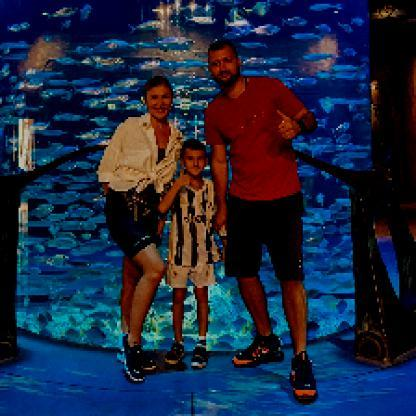child: (159, 138, 228, 369)
